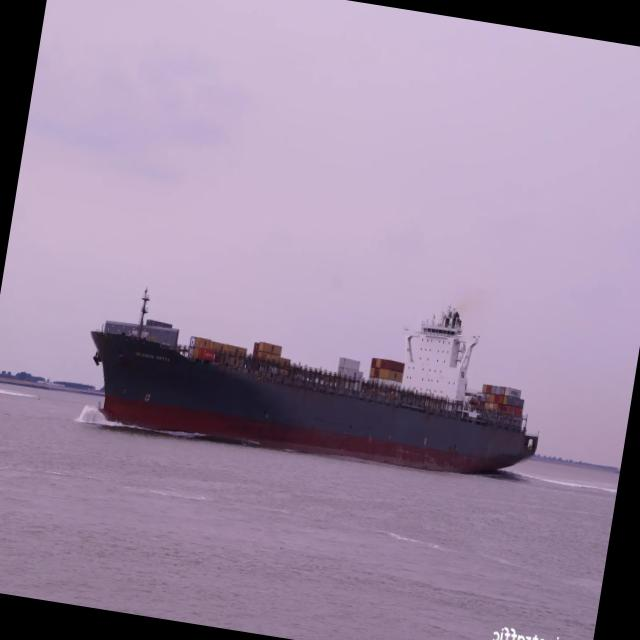Cargo: (92, 289, 538, 473)
